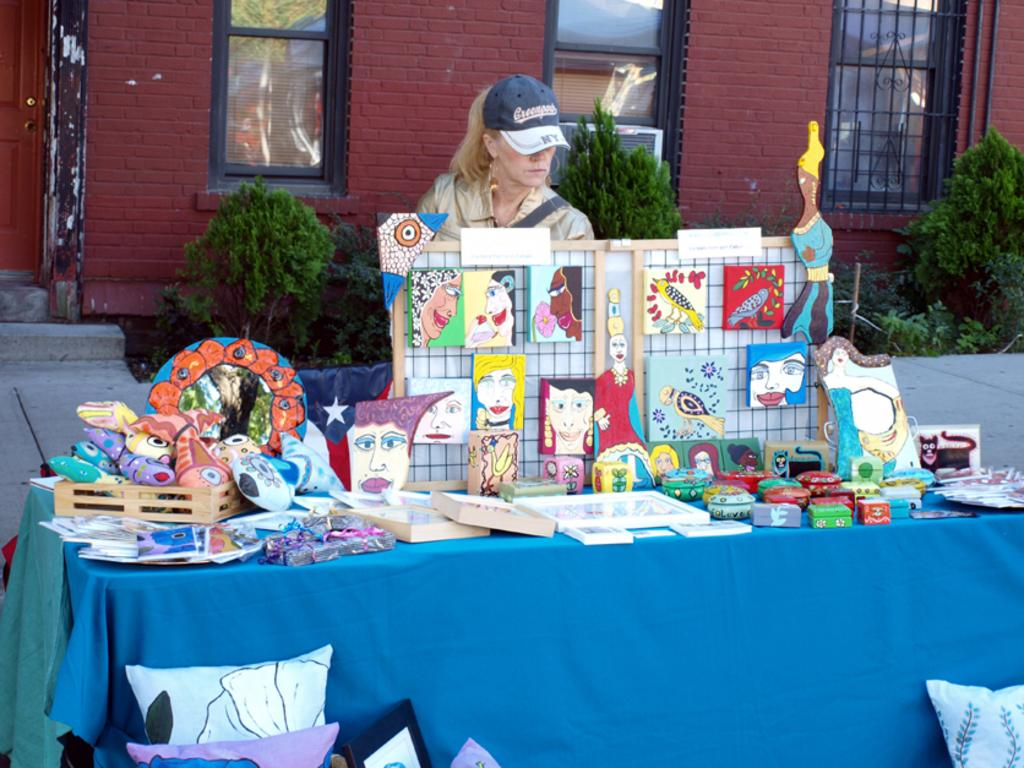Hat: (476, 74, 569, 155)
